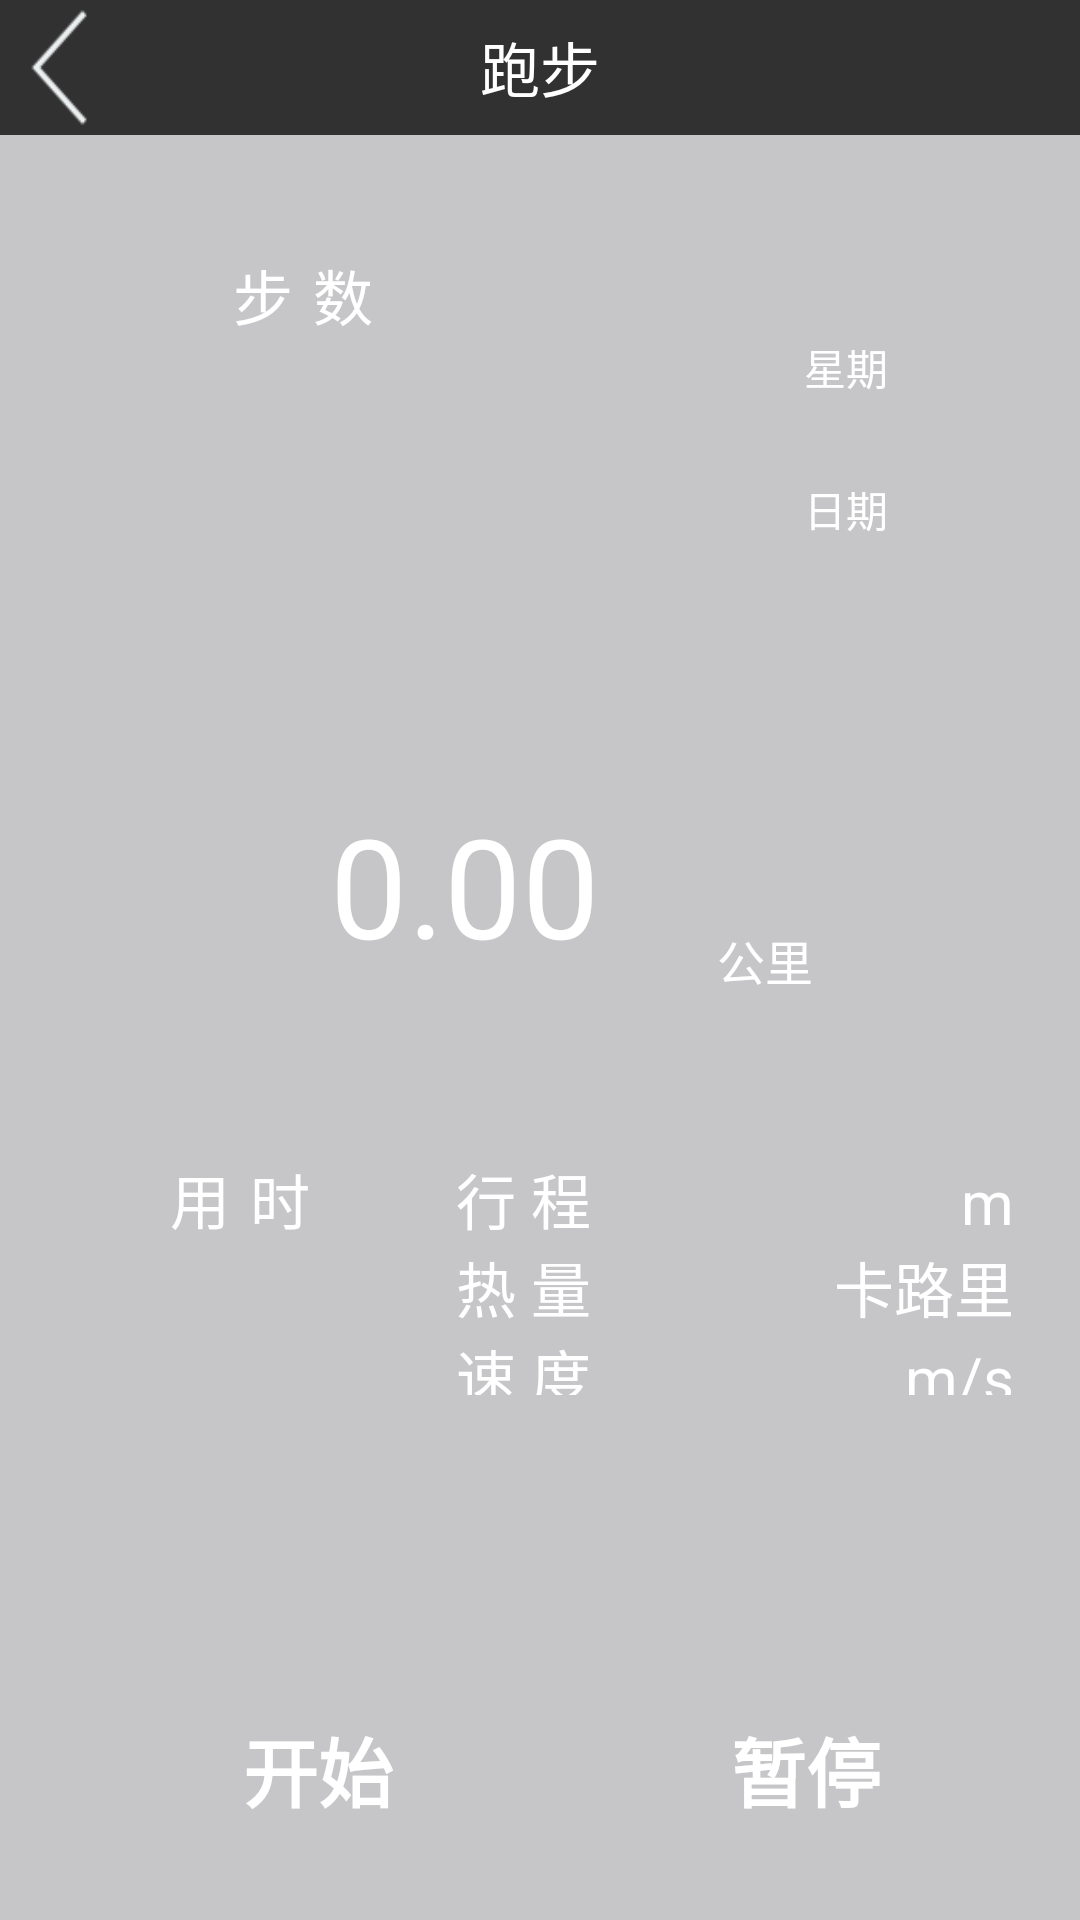

Icon bounding boxes for this 1080x1920 phone screenshot, format {"x1": x1, "y1": y1, "x2": x2, "y2": y2}:
jiantou: {"x1": 32, "y1": 10, "x2": 87, "y2": 125}
